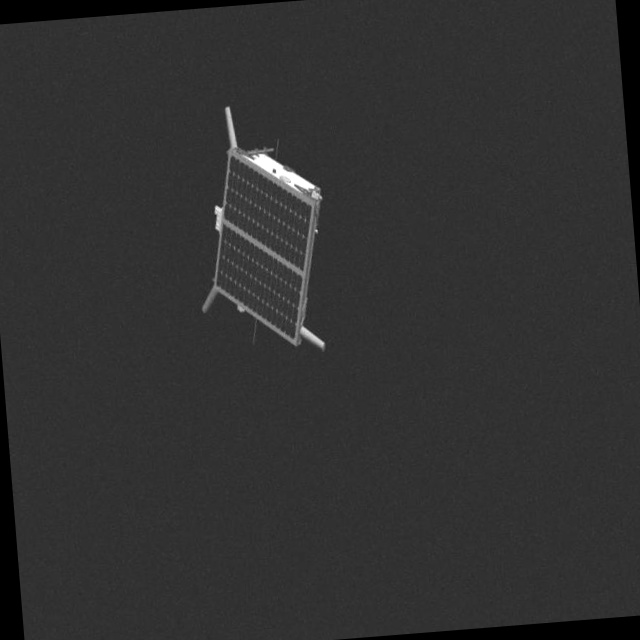satellite: (162, 92, 355, 369)
